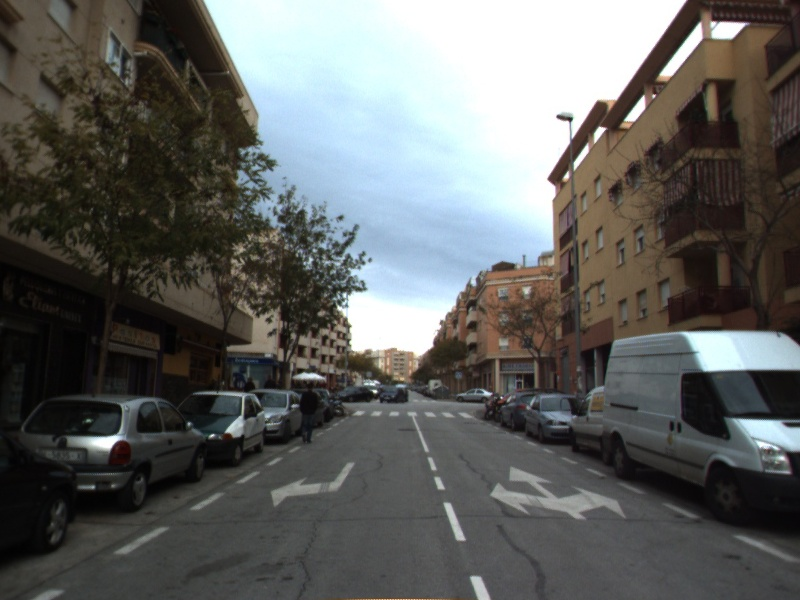STRAIGHT_LEFT_RIGHT: (488, 464, 628, 522)
